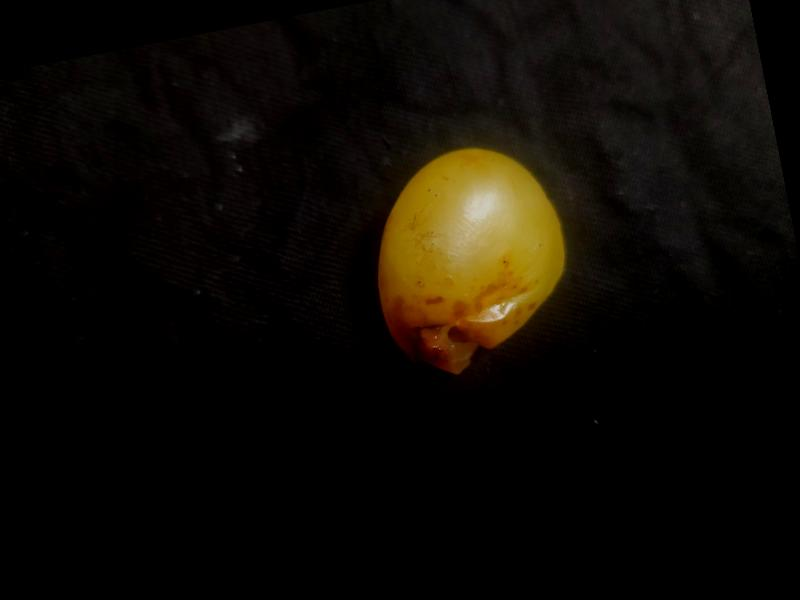Grape Overripe: (350, 130, 589, 388)
